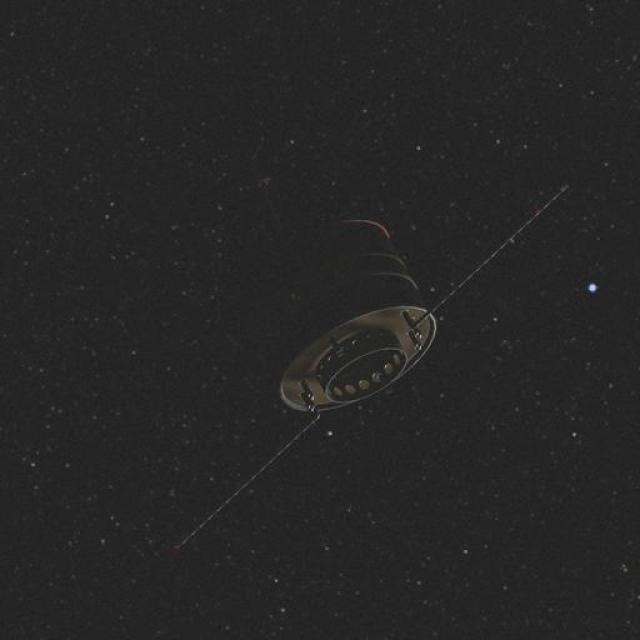double_start: (257, 196, 443, 452)
